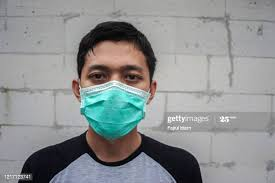with-mask: (71, 23, 158, 143)
